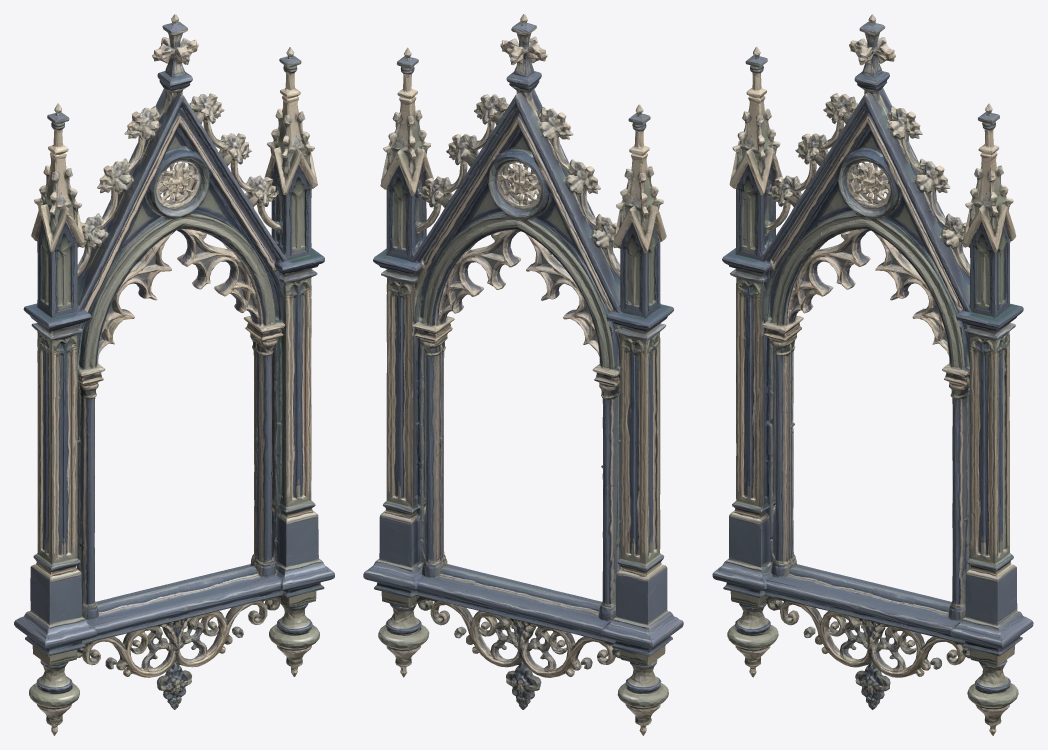
Rendered from victorian-frame-textured.glb.
3 renders of one model, left to right at view 1: azimuth 30°, elevation 25°; view 2: azimuth 150°, elevation 25°; view 3: azimuth 330°, elevation 25°, orthographic.
Visible parts, largest first — view 1: Mesh_0; view 2: Mesh_0; view 3: Mesh_0.
Boxes of the visible parts, bbox=[...] form: Mesh_0: bbox=[14, 14, 334, 735]; Mesh_0: bbox=[363, 14, 683, 735]; Mesh_0: bbox=[712, 14, 1033, 735].
Bounding box in the file's own units: 3.49 × 8 × 0.6543.
Materials: 1 (1 with a texture image).
